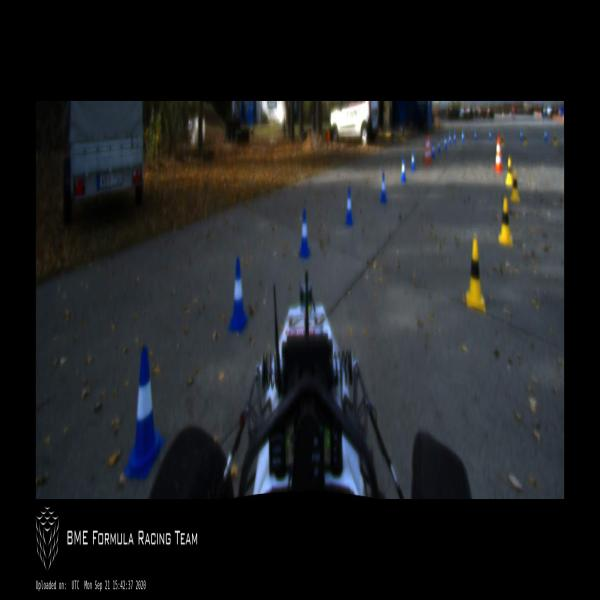blue_cone: (124, 346, 165, 479), (229, 258, 248, 328), (298, 208, 311, 259), (344, 186, 353, 226), (380, 172, 388, 203), (400, 158, 406, 182), (411, 150, 415, 170), (432, 141, 436, 159), (437, 137, 441, 151), (444, 136, 447, 150), (544, 129, 547, 142), (489, 128, 492, 140), (474, 130, 477, 142), (453, 131, 456, 143), (520, 129, 523, 141), (462, 130, 464, 143), (449, 133, 451, 146)
large_orange_cone: (494, 136, 502, 172), (424, 136, 429, 165)
yellow_cone: (467, 238, 485, 309), (498, 197, 514, 244), (510, 169, 519, 202), (506, 157, 512, 183), (501, 133, 504, 150), (523, 134, 527, 146), (554, 135, 557, 147)
